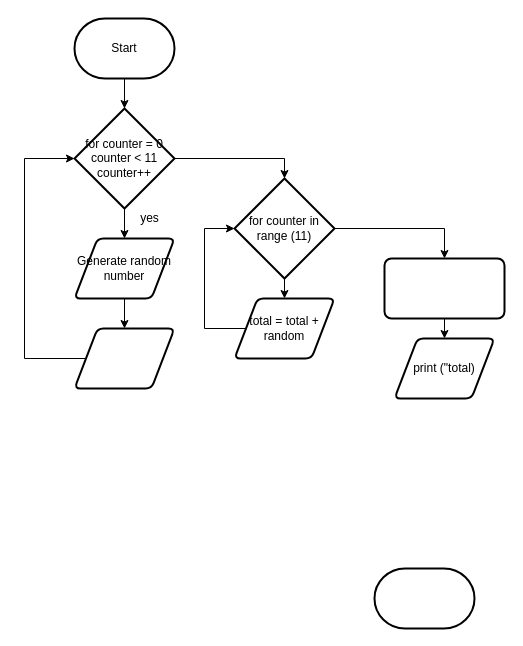
The diagram is 523 pixels wide and 646 high, and some of its shapes have lost their labels. The centre of each missing label's shape, as x and y in pixels:
print ("random number"): the point at 124,358
Stop: the point at 424,598
total / Number: the point at 444,288
